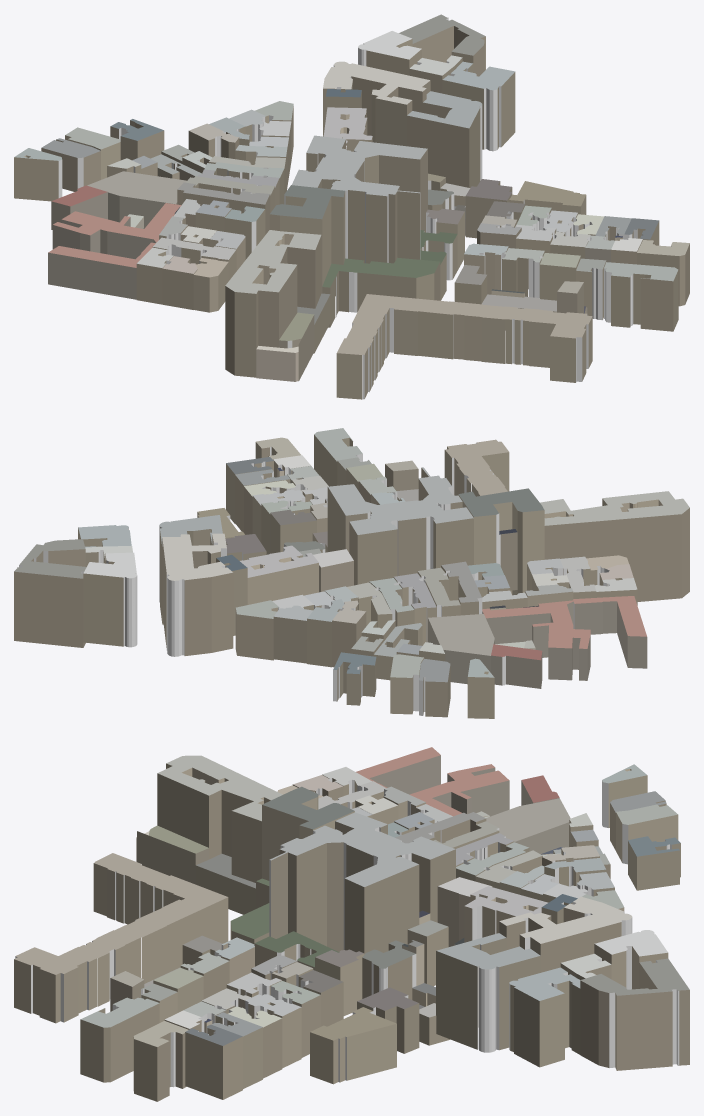
3 views of the same model, one above another, from view 1: azimuth 30°, elevation 25°; view 2: azimuth 150°, elevation 25°; view 3: azimuth 270°, elevation 25° (orthographic). The views are drawn at different scales.
Parts seen in each view (by area): view 1: tuile; view 2: tuile; view 3: tuile.
Boxes of the visible parts, <box> form: tuile: <box>14,14,689,399</box>; tuile: <box>14,428,689,718</box>; tuile: <box>14,747,689,1101</box>.
Bounding box in the file's own units: 303 × 64.85 × 312.
